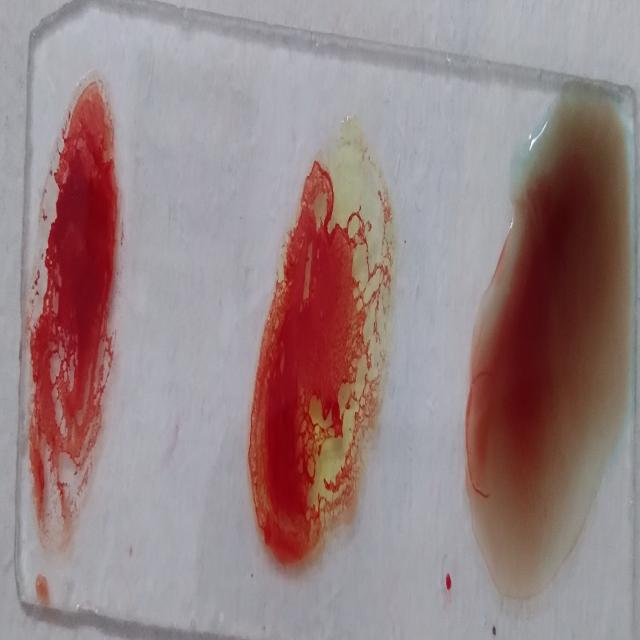B: (250, 123, 388, 579)
D: (32, 80, 114, 548)
